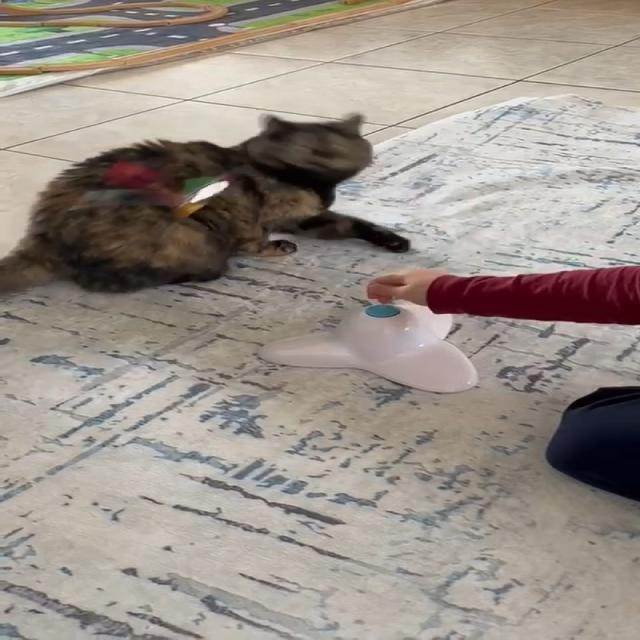authorized: (0, 111, 411, 295)
